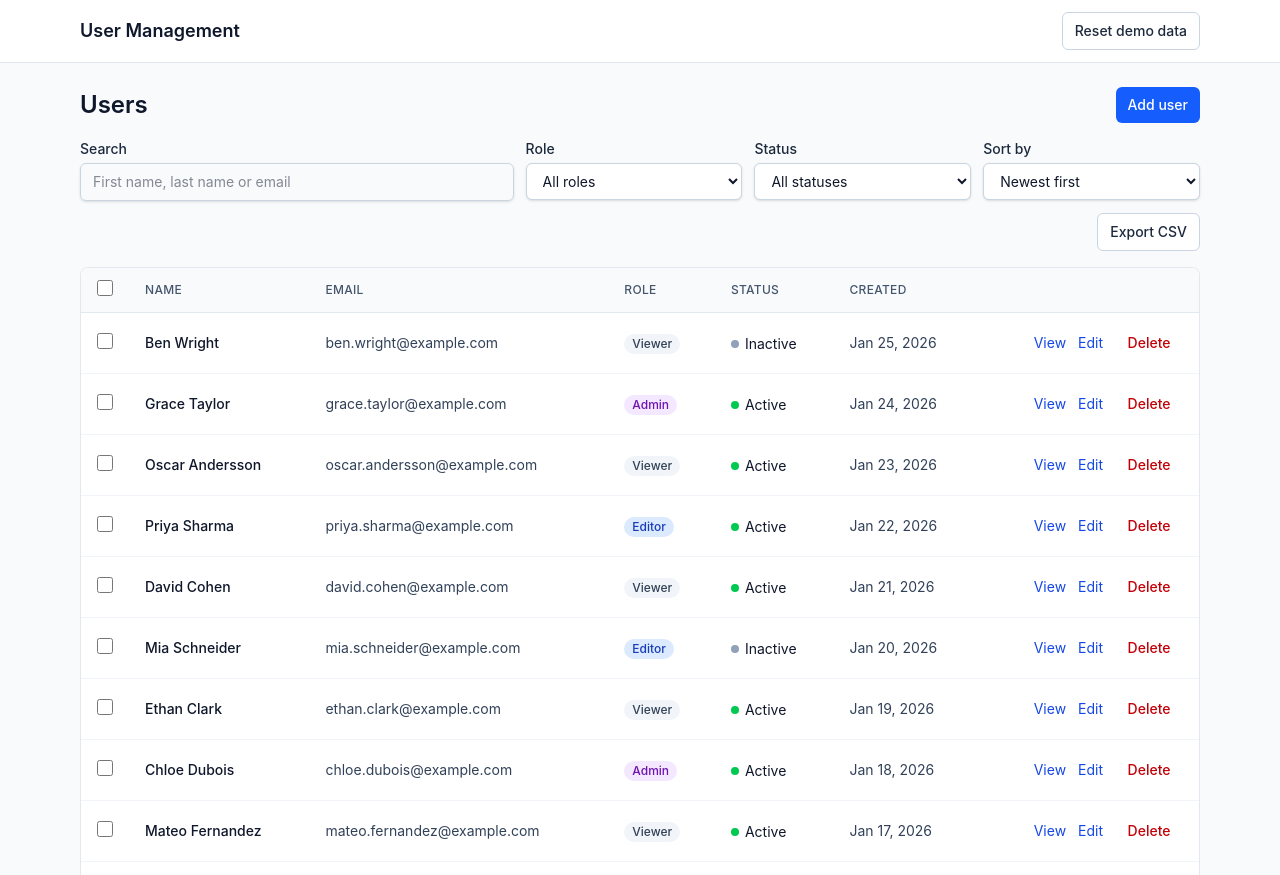
Test: UserDetailPage › is reached from the list
Click the link with aria-label "View Ben Wright" at [1050, 343], box [1034,333,1066,353]
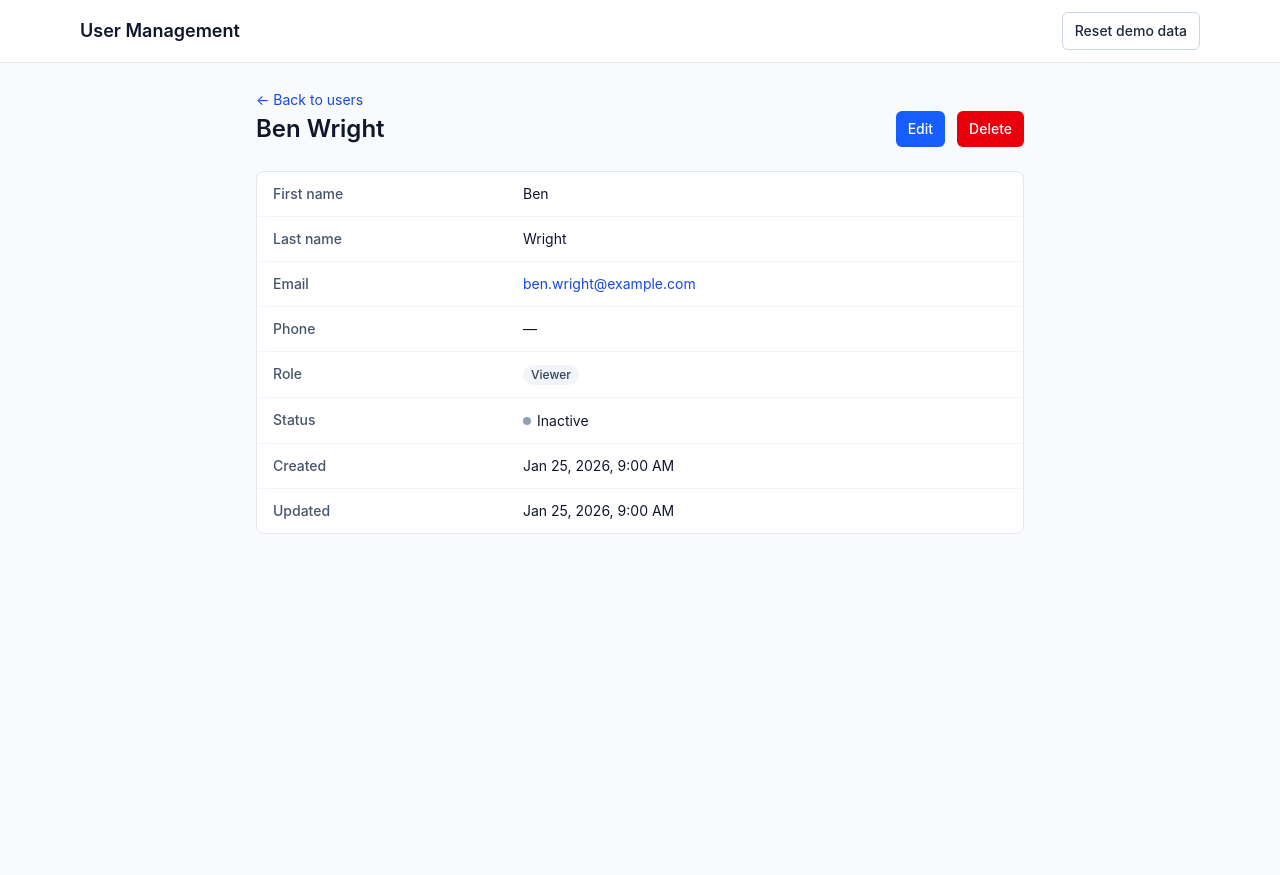
Check: the heading "Ben Wright" is shown, box [256,113,384,145]
